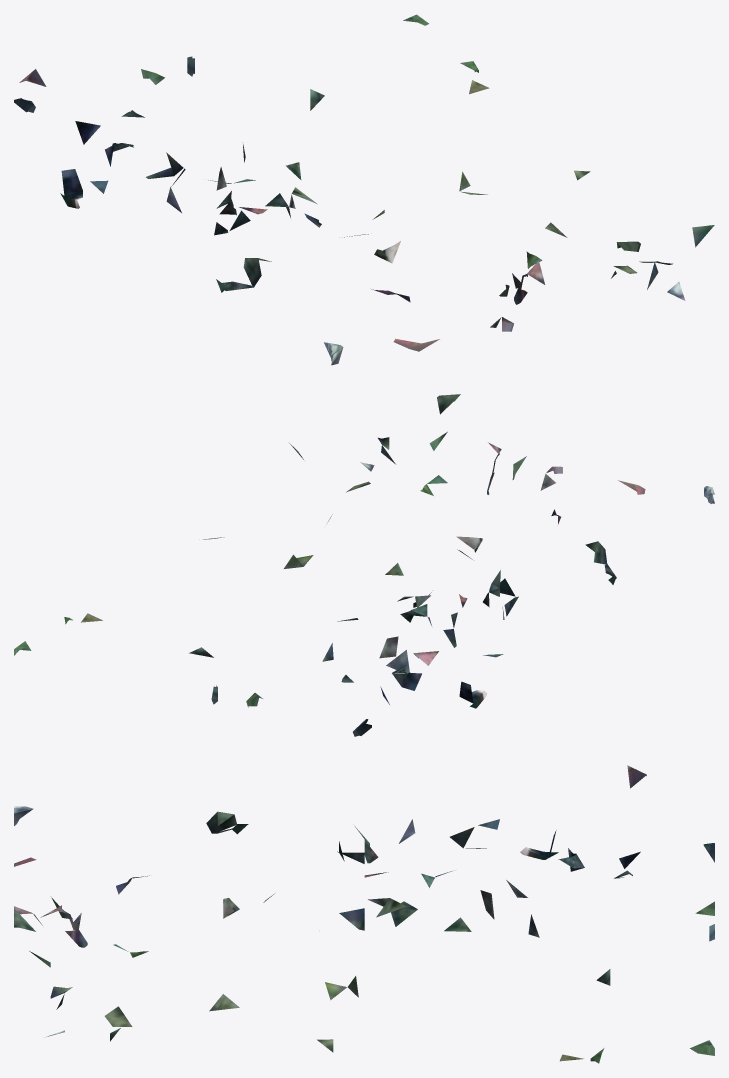
3 renders of one model, top to bottom at view 1: azimuth 30°, elevation 25°; view 2: azimuth 150°, elevation 25°; view 3: azimuth 270°, elevation 25°, orthographic. The views are drawn at different scales.
Visible parts, largest first — view 1: 3043627270436160463_1; view 2: 3043627270436160463_1; view 3: 3043627270436160463_1.
Boxes of the visible parts, x1=… form: 3043627270436160463_1: x1=14, y1=14, x2=714, y2=365; 3043627270436160463_1: x1=14, y1=394, x2=714, y2=736; 3043627270436160463_1: x1=14, y1=765, x2=714, y2=1063.
Bounding box in the file's own units: 54.93 × 11.41 × 76.51.
1 material, 1 textured.
